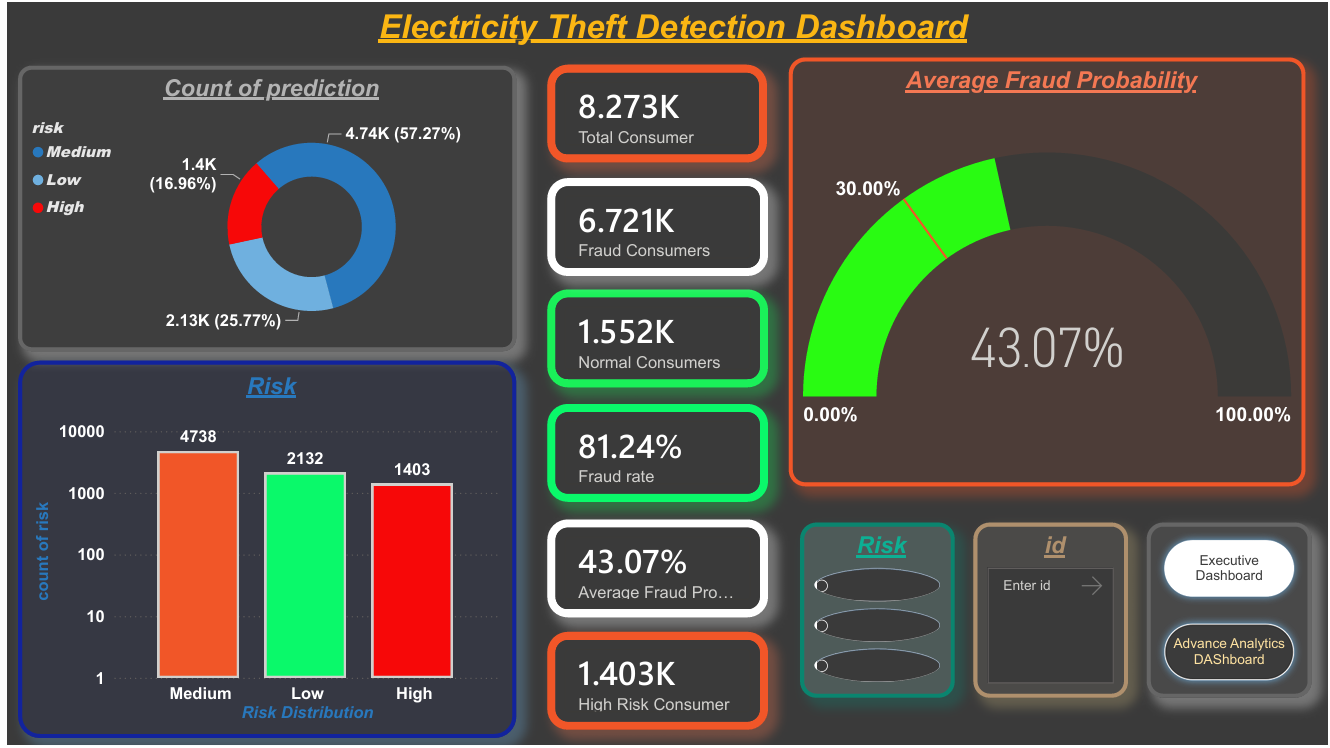

This screenshot's page, from the dashboard's own definition file:
{"tool":"powerbi","page":{"name":"Executive Dashboard","canvas":[1280,720],"ordinal":0},"visuals":[{"type":"textbox","box":[10,0,1270,60],"z":0},{"type":"cardVisual","fields":{"Data":["electricity_fraud_db prediction_history.Total Consumer"]},"box":[523.3,60,213,95],"z":1000},{"type":"cardVisual","fields":{"Data":["electricity_fraud_db prediction_history.Normal Consumers"]},"box":[523.2,278.4,213.3,95],"z":2000},{"type":"cardVisual","fields":{"Data":["electricity_fraud_db prediction_history.Fraud rate"]},"box":[523.2,388.8,213.3,95],"z":3000},{"type":"cardVisual","fields":{"Data":["electricity_fraud_db prediction_history.Average Fraud Probability"]},"box":[523.2,500.8,213.3,95],"z":4000},{"type":"cardVisual","fields":{"Data":["electricity_fraud_db prediction_history.High Risk Consumer"]},"box":[523.2,609.6,213.3,95],"z":5000},{"type":"cardVisual","fields":{"Data":["electricity_fraud_db prediction_history.Fraud Consumers"]},"box":[523.2,169.6,213.3,95],"z":6000},{"type":"donutChart","title":"Count of prediction ","fields":{"Y":["CountNonNull(electricity_fraud_db prediction_history.prediction)"],"Category":["electricity_fraud_db prediction_history.risk"]},"box":[9.6,60.8,483.2,276.8],"z":7000},{"type":"clusteredColumnChart","title":"Risk","fields":{"Category":["electricity_fraud_db prediction_history.risk"],"Y":["electricity_fraud_db prediction_history.count of risk"]},"box":[10,347.1,482.9,365.7],"z":8000},{"type":"gauge","fields":{"Y":["electricity_fraud_db prediction_history.Average Fraud Probability"]},"box":[756.8,52.8,500.8,416],"z":9000},{"type":"advancedSlicerVisual","title":"Risk","fields":{"Values":["electricity_fraud_db prediction_history.risk"]},"box":[768,504,150,170],"z":10000},{"type":"textSlicer","fields":{"Values":["electricity_fraud_db prediction_history.id"]},"box":[936,504,150,170],"z":11000},{"type":"pageNavigator","box":[1104,504,160,170],"z":12000}]}

Visuals, with their boxes in screenshot pixels (x1, y1, x2, y2), scaled from the page's 1280x720 canvas onto the 1330x748 screenshot:
textbox: 10:0:1329:62
cardVisual - electricity_fraud_db prediction_history.Total Consumer: 544:62:765:161
cardVisual - electricity_fraud_db prediction_history.Normal Consumers: 544:289:765:388
cardVisual - electricity_fraud_db prediction_history.Fraud rate: 544:404:765:503
cardVisual - electricity_fraud_db prediction_history.Average Fraud Probability: 544:520:765:619
cardVisual - electricity_fraud_db prediction_history.High Risk Consumer: 544:633:765:732
cardVisual - electricity_fraud_db prediction_history.Fraud Consumers: 544:176:765:275
"Count of prediction " donutChart: 10:63:512:351
"Risk" clusteredColumnChart: 10:361:512:741
gauge - electricity_fraud_db prediction_history.Average Fraud Probability: 786:55:1307:487
"Risk" advancedSlicerVisual: 798:524:954:700
textSlicer - electricity_fraud_db prediction_history.id: 973:524:1128:700
pageNavigator: 1147:524:1313:700
